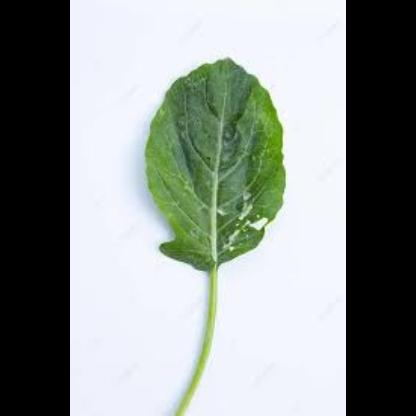agujero: (244, 217, 272, 229)
